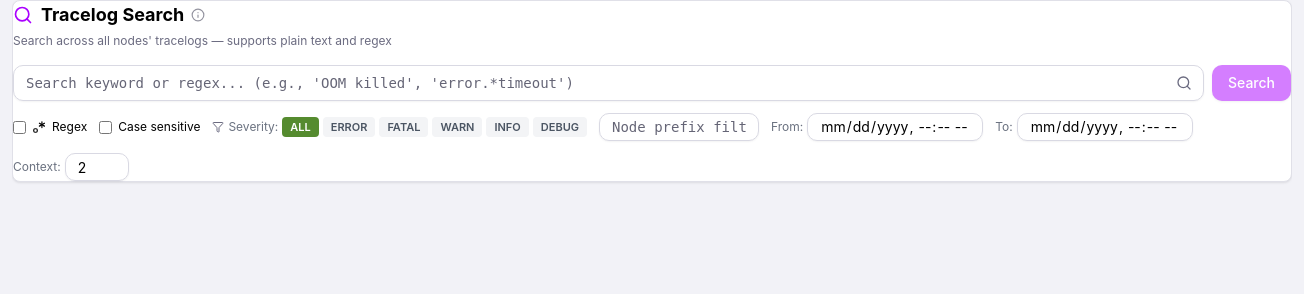
LogSearch result panel › copies full log block in one tap without expanding
This screenshot has width=1304, height=294.
Type "BottleGrpc" into the field with test id "log-search-input".
click(608, 83); type("BottleGrpc")  # box [13, 65, 1204, 101]
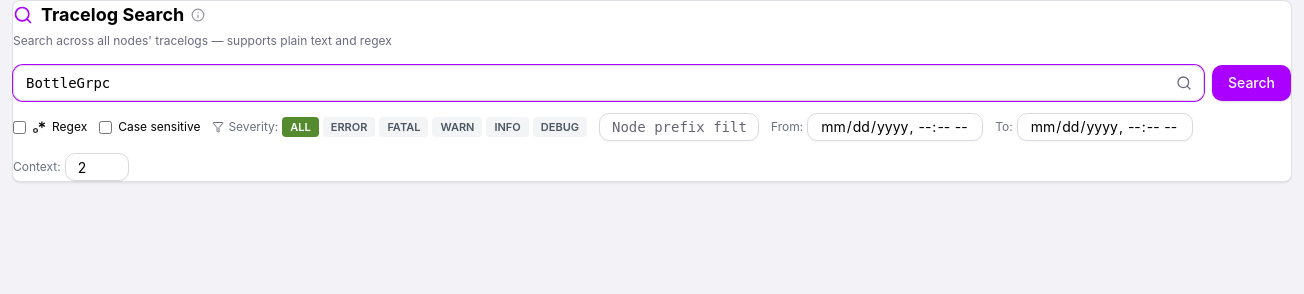
Click the button "Search".
click(1252, 83)  # box [1212, 65, 1291, 101]
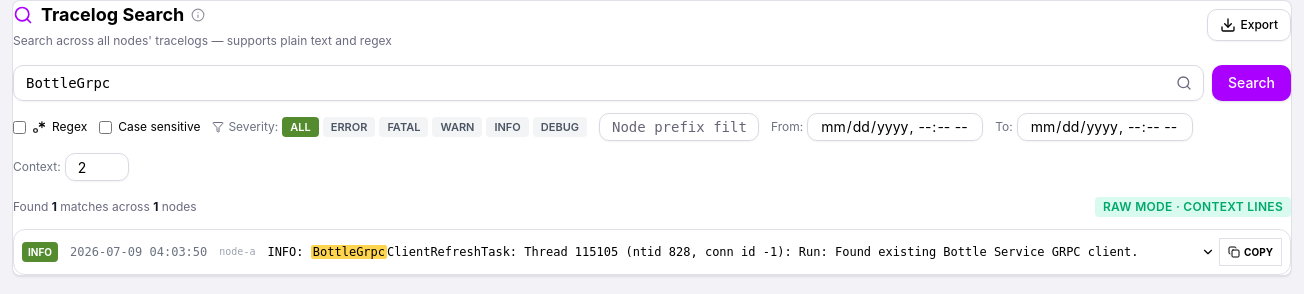
Expected: the button with test id "log-search-copy-0" is shown
Click the button with test id "log-search-copy-0".
click(1251, 252)  # box [1219, 238, 1282, 266]
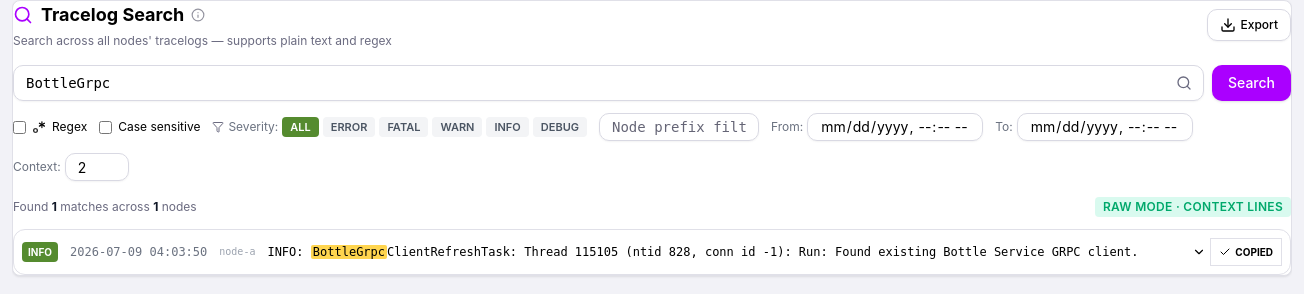
Expected: the button with test id "log-search-copy-0" reads "Copied", [1210, 238, 1282, 266]
